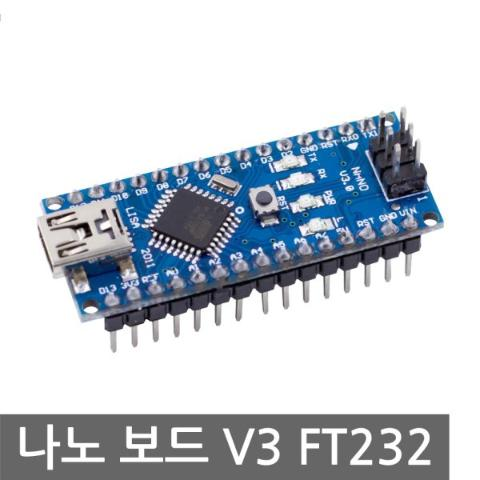Arduino-Nano: (31, 101, 449, 357)
